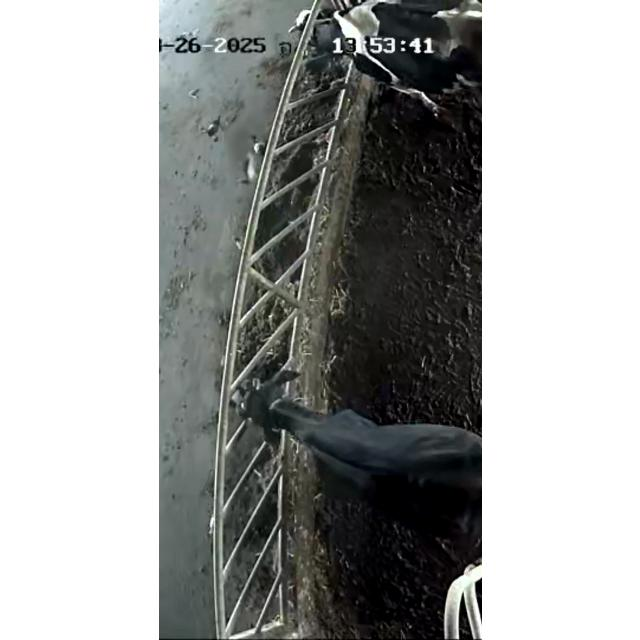eat: (178, 348, 346, 456), (266, 4, 438, 80)
